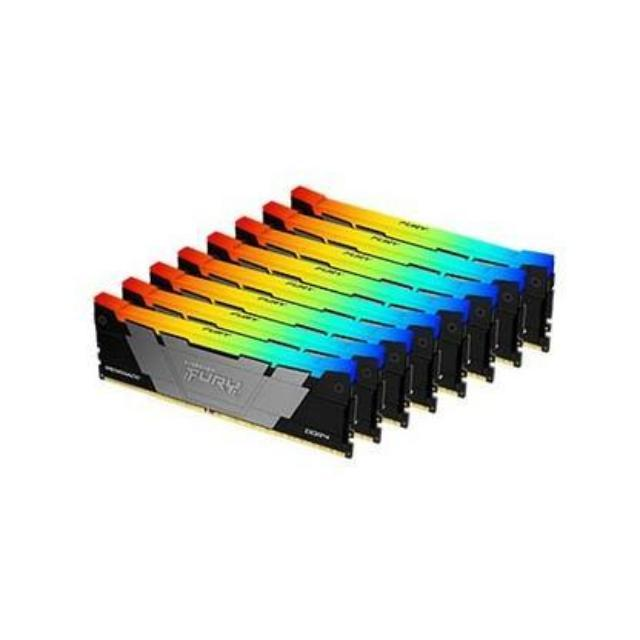RAM: (76, 177, 559, 463)
